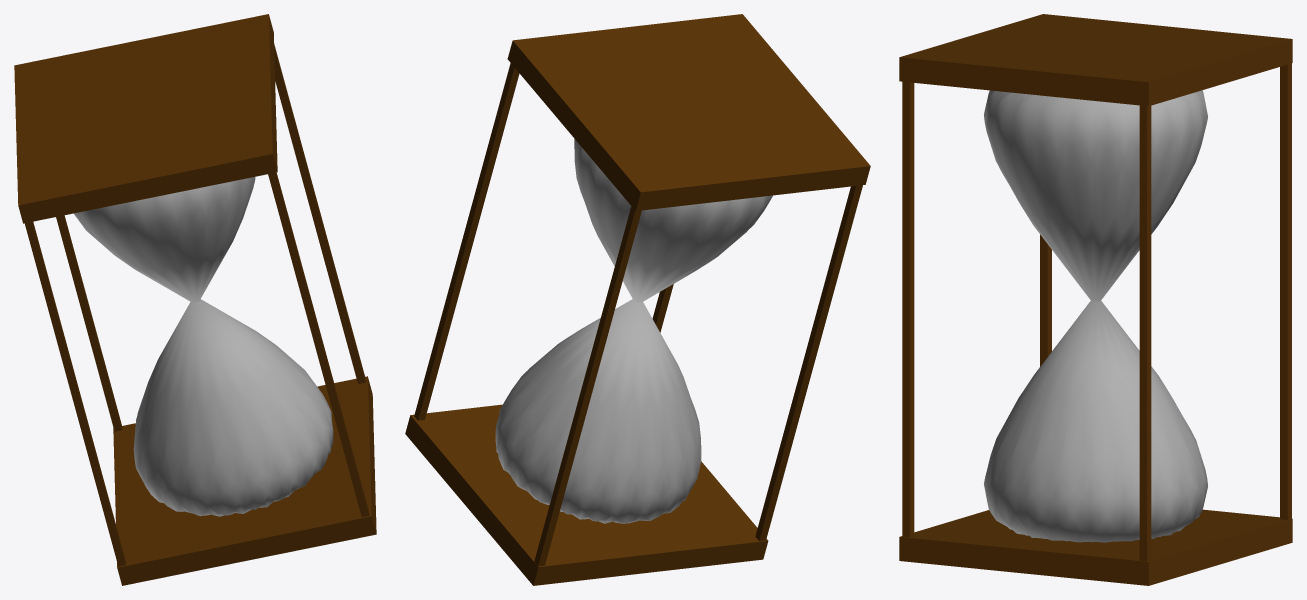
The model's file is HourGlass.fbx.
The picture shows the model from 3 angles, left to right: view 1: azimuth 30°, elevation 25°; view 2: azimuth 150°, elevation 25°; view 3: azimuth 270°, elevation 25°; orthographic projection. The views are drawn at different scales.
Parts seen in each view (by area): view 1: pCube1 (×2), pCone1 (×2), pCube4, pCube3, pCube5, pCube2; view 2: pCube1 (×2), pCone1 (×2), pCube2, pCube3, pCube5; view 3: pCone1 (×2), pCube1 (×2), pCube4, pCube5, pCube2, pCube3.
Boxes of the visible parts, bbox=[...] form: pCube1 (×2): bbox=[14, 14, 376, 585]; pCone1 (×2): bbox=[73, 177, 333, 516]; pCube4: bbox=[268, 172, 369, 517]; pCube3: bbox=[24, 221, 125, 566]; pCube5: bbox=[274, 43, 365, 383]; pCube2: bbox=[56, 215, 122, 431]; pCube1 (×2): bbox=[405, 14, 870, 585]; pCone1 (×2): bbox=[495, 139, 772, 523]; pCube2: bbox=[534, 206, 641, 566]; pCube3: bbox=[755, 185, 862, 540]; pCube5: bbox=[414, 63, 519, 420]; pCone1 (×2): bbox=[984, 90, 1207, 542]; pCube1 (×2): bbox=[899, 14, 1292, 585]; pCube4: bbox=[902, 81, 914, 537]; pCube5: bbox=[1139, 105, 1151, 561]; pCube2: bbox=[1280, 63, 1291, 519]; pCube3: bbox=[1040, 234, 1051, 366].
Size of the model in its own units: 1.34 by 1.55 by 1.03.
